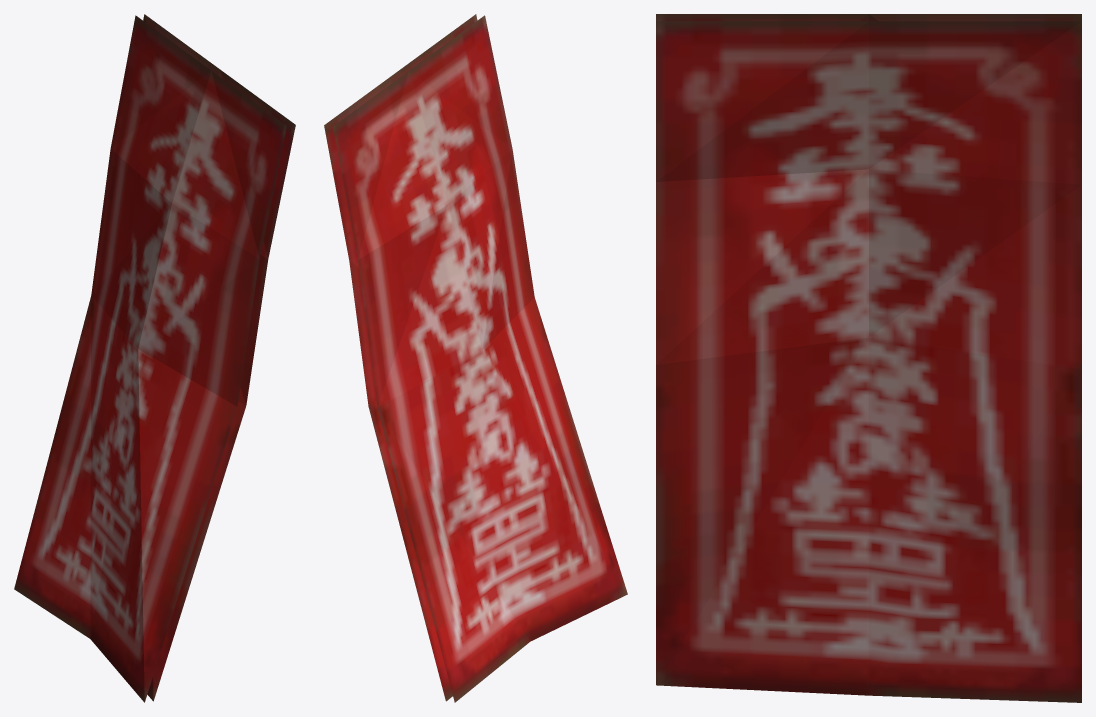
The model's file is Panda_chineseTalisman_01_chineseTalisman2.obj.
The picture shows the model from 3 angles, left to right: view 1: azimuth 30°, elevation 25°; view 2: azimuth 150°, elevation 25°; view 3: azimuth 270°, elevation 25°; orthographic projection. The views are drawn at different scales.
Parts seen in each view (by area): view 1: Panda_chineseTalisman_01 [chineseTalisman2]; view 2: Panda_chineseTalisman_01 [chineseTalisman2]; view 3: Panda_chineseTalisman_01 [chineseTalisman2].
Boxes of the visible parts, x1,y1,x2,y2 form: Panda_chineseTalisman_01 [chineseTalisman2]: (14, 14, 295, 702); Panda_chineseTalisman_01 [chineseTalisman2]: (324, 14, 627, 702); Panda_chineseTalisman_01 [chineseTalisman2]: (656, 14, 1081, 702).
Bounding box in the file's own units: 0.0844 × 0.2911 × 0.1466.
1 material, 1 textured.
